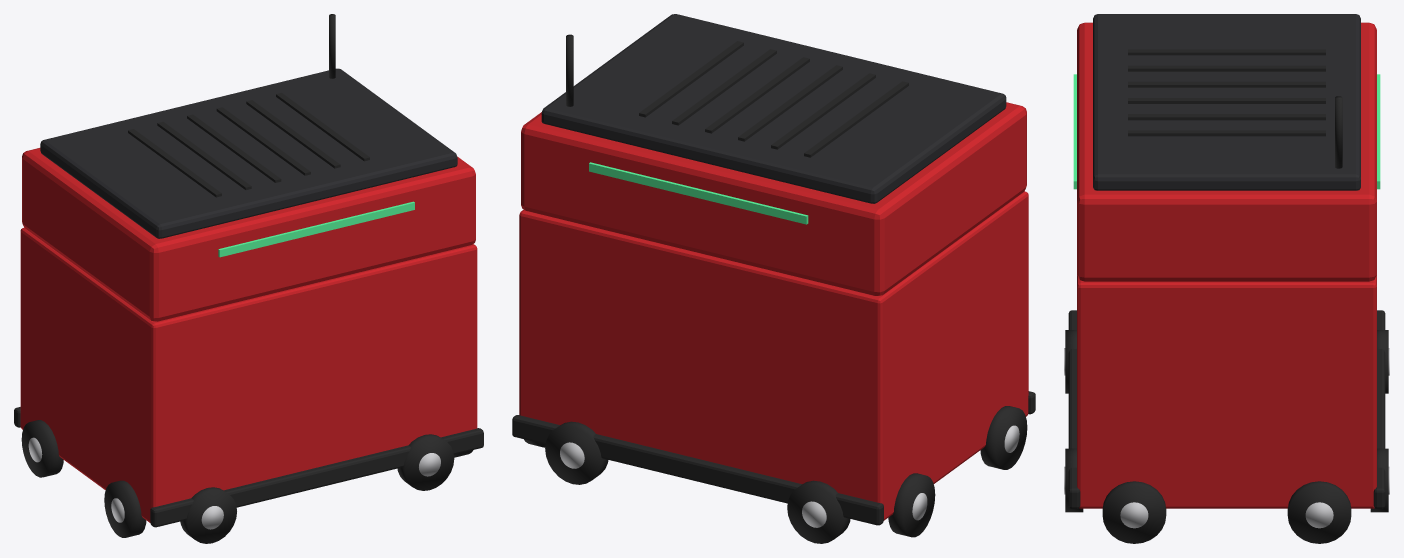
The model's file is autostore_robot.fbx.
3 renders of one model, left to right at view 1: azimuth 30°, elevation 25°; view 2: azimuth 150°, elevation 25°; view 3: azimuth 270°, elevation 25°, orthographic. The views are drawn at different scales.
Parts seen in each view (by area): view 1: AutoStoreRobot_Body, AutoStoreRobot_Wheels, AutoStoreRobot_LED; view 2: AutoStoreRobot_Body, AutoStoreRobot_Wheels, AutoStoreRobot_LED; view 3: AutoStoreRobot_Body, AutoStoreRobot_Wheels, AutoStoreRobot_LED, AutoStoreRobot_Antenna.
Boxes of the visible parts, bbox=[...] form: AutoStoreRobot_Body: bbox=[14, 68, 483, 527]; AutoStoreRobot_Wheels: bbox=[21, 420, 473, 543]; AutoStoreRobot_LED: bbox=[218, 201, 414, 257]; AutoStoreRobot_Body: bbox=[512, 14, 1035, 525]; AutoStoreRobot_Wheels: bbox=[524, 406, 1027, 543]; AutoStoreRobot_LED: bbox=[589, 162, 808, 224]; AutoStoreRobot_Body: bbox=[1068, 14, 1385, 508]; AutoStoreRobot_Wheels: bbox=[1064, 330, 1389, 543]; AutoStoreRobot_LED: bbox=[1073, 74, 1380, 189]; AutoStoreRobot_Antenna: bbox=[1335, 96, 1342, 168].
Size of the model in its own units: 0.7 by 0.735 by 0.51.
